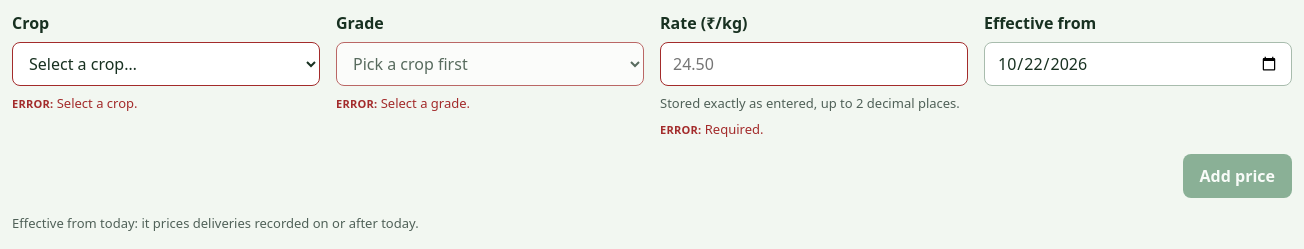
Test: PriceEntryForm › explains how back-dated, current and future effective dates apply
This screenshot has width=1304, height=249.
Expected: the text "Effective from today: it prices deliveries recorded on or after today." is shown, [12,214,419,232]
Type "2020-01-01" into the date field labelled "Effective from".
click(1138, 64); type("2020-01-01")  # box [984,42,1292,86]
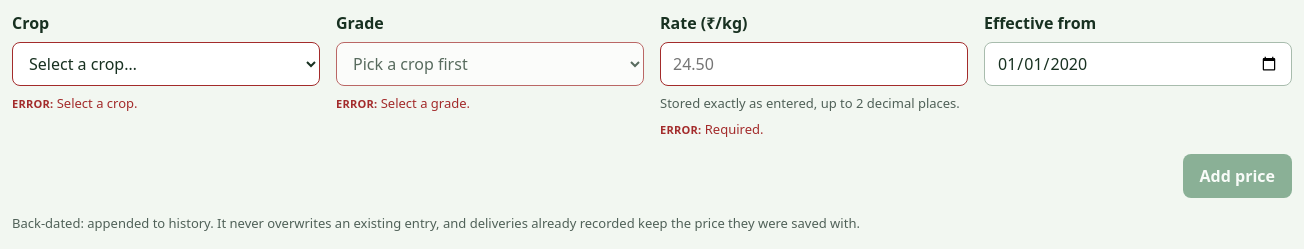
Result: the text "Back-dated" is shown at [12,214,860,232]
Type "2099-01-01" into the date field labelled "Effective from".
click(1138, 64); type("2099-01-01")  # box [984,42,1292,86]
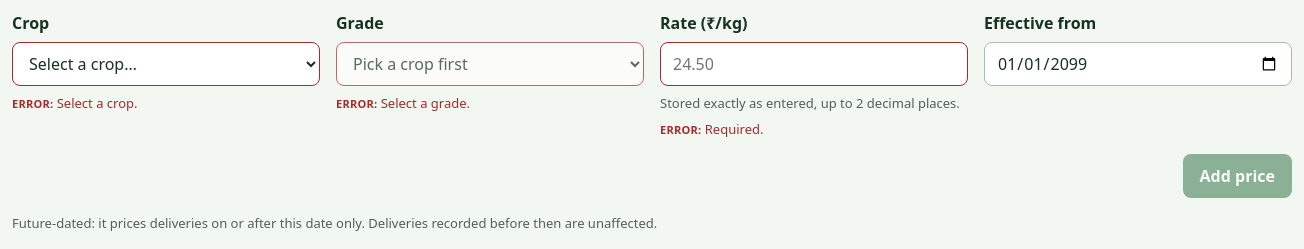
Result: the text "Future-dated" is shown at [12,214,657,232]
